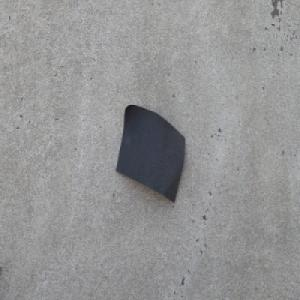PaintChip: (115, 102, 186, 204)
